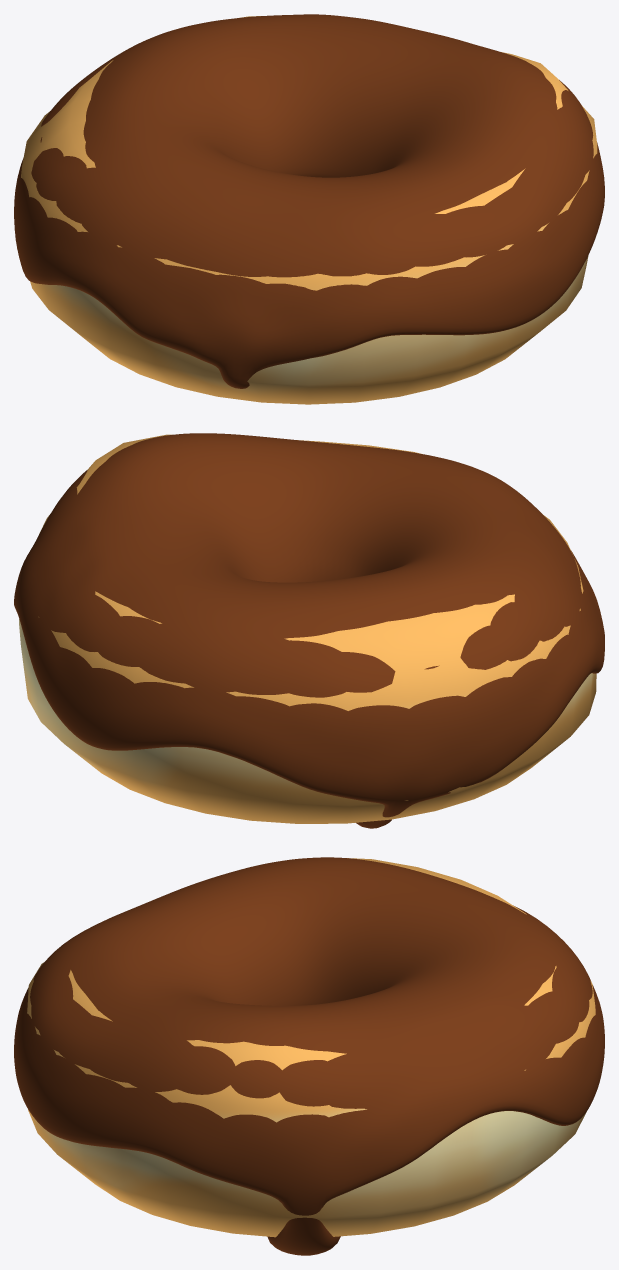
3 renders of one model, top to bottom at view 1: azimuth 30°, elevation 25°; view 2: azimuth 150°, elevation 25°; view 3: azimuth 270°, elevation 25°, orthographic. The views are drawn at different scales.
Visible parts, largest first — view 1: Icing.005, Donut.003; view 2: Icing.005, Donut.003; view 3: Icing.005, Donut.003.
Boxes of the visible parts, left/top/right/bottom form: Icing.005: left=14, top=14, right=604, bottom=388; Donut.003: left=21, top=16, right=597, bottom=404; Icing.005: left=14, top=433, right=604, bottom=828; Donut.003: left=19, top=434, right=596, bottom=823; Icing.005: left=14, top=857, right=604, bottom=1255; Donut.003: left=27, top=858, right=595, bottom=1237.
Size of the model in its own units: 0.1192 by 0.0524 by 0.1198.
2 materials, 1 textured.
